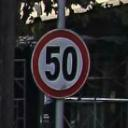speed_limit_50: (32, 30, 90, 100)
